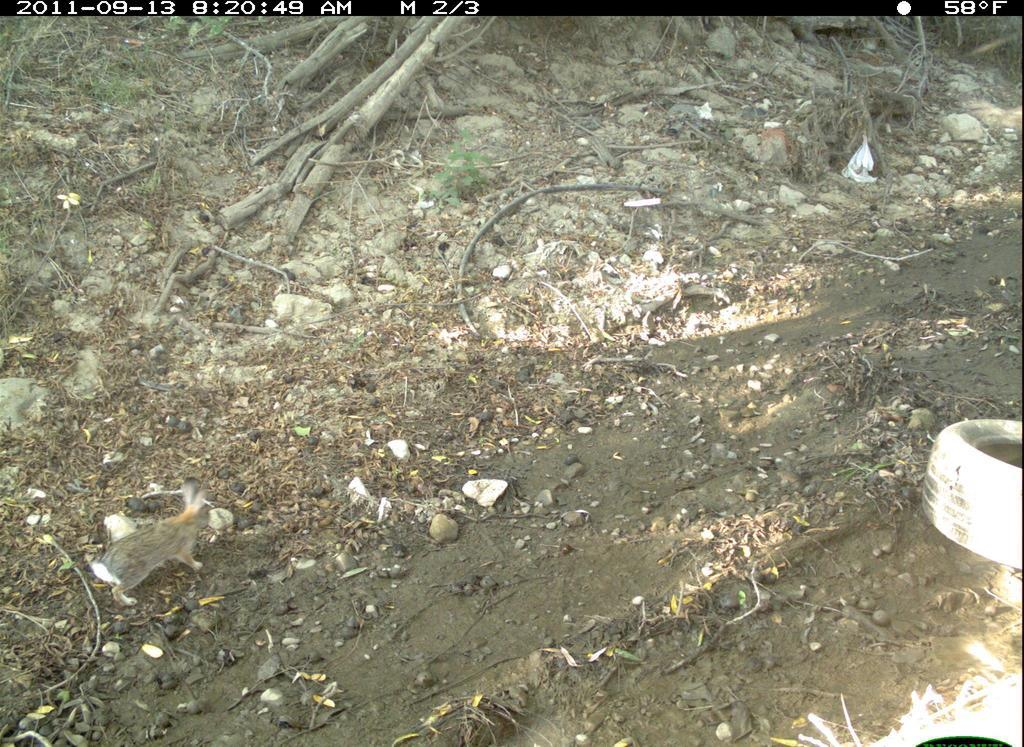rabbit: (83, 472, 233, 614)
